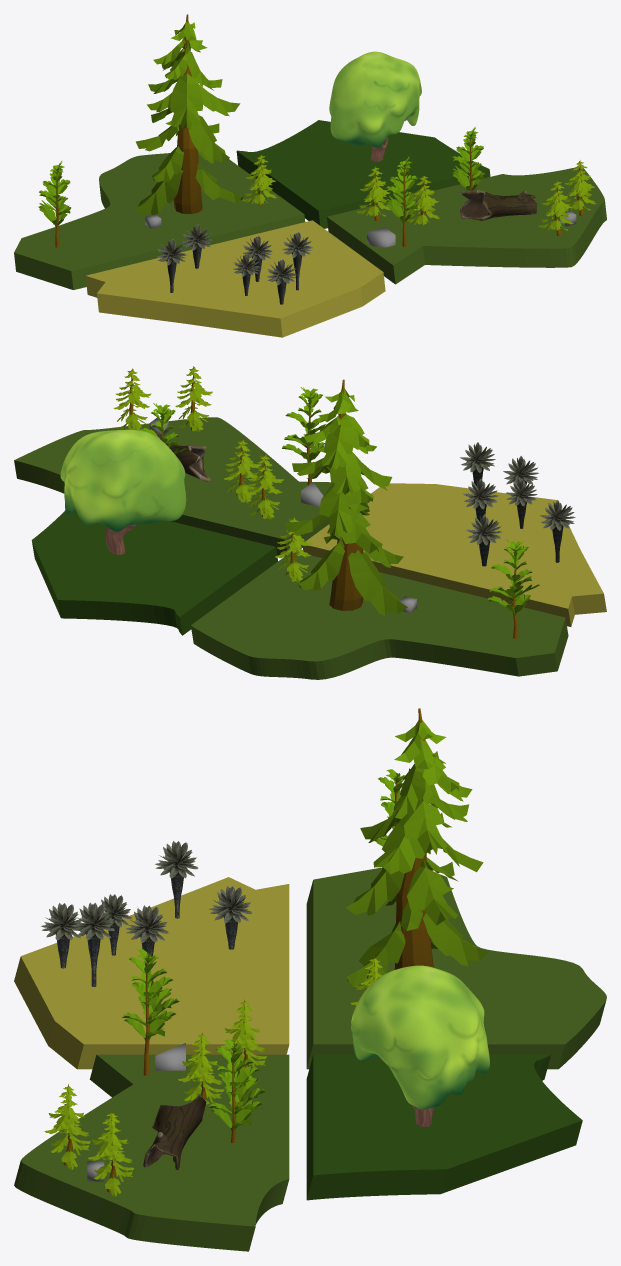
File: Ecosistema.glb
3 renders of one model, top to bottom at view 1: azimuth 30°, elevation 25°; view 2: azimuth 150°, elevation 25°; view 3: azimuth 270°, elevation 25°, orthographic. The views are drawn at different scales.
Visible parts, largest first — view 1: Curve, SM_FreeTree_02, PM3D_Sphere3D_2_PM3D_Sphere3D_2_0, Cylinder, SM_FreeTree_03_Free_Tree_M_0.002, SM_FreeTree_03_Free_Tree_M_0.003, SM_FreeTree_03_Free_Tree_M_0.001, SM_FreeTree_08_Free_Tree_M_0.002, SM_FreeTree_08, SM_FreeTree_08_Free_Tree_M_0.003, SM_FreeTree_08_Free_Tree_M_0.004, SM_FreeTree_08_Free_Tree_M_0.001 (+7 smaller); view 2: Curve, SM_FreeTree_02, PM3D_Sphere3D_2_PM3D_Sphere3D_2_0, SM_FreeTree_03_Free_Tree_M_0.003, SM_FreeTree_03_Free_Tree_M_0.002, SM_FreeTree_08, SM_FreeTree_08_Free_Tree_M_0.002, SM_FreeTree_08_Free_Tree_M_0.003, SM_FreeTree_08_Free_Tree_M_0.001, SM_FreeTree_08_Free_Tree_M_0.004, hoja11_Material #30_0.002, Cylinder (+7 smaller); view 3: Curve, SM_FreeTree_02, PM3D_Sphere3D_2_PM3D_Sphere3D_2_0, SM_FreeTree_03_Free_Tree_M_0.002, SM_FreeTree_03_Free_Tree_M_0.001, Cylinder, SM_FreeTree_08_Free_Tree_M_0.002, SM_FreeTree_08_Free_Tree_M_0.003, SM_FreeTree_08_Free_Tree_M_0.001, hoja11_Material #30_0, hoja11_Material #30_0.002, hoja11_Material #30_0.003 (+5 smaller).
Part boxes in pixels (x1,y1,x2,y2): Curve: (14, 120, 606, 337); SM_FreeTree_02: (134, 14, 243, 215); PM3D_Sphere3D_2_PM3D_Sphere3D_2_0: (329, 51, 421, 147); Cylinder: (459, 189, 537, 220); SM_FreeTree_03_Free_Tree_M_0.002: (386, 156, 418, 246); SM_FreeTree_03_Free_Tree_M_0.003: (38, 161, 71, 247); SM_FreeTree_03_Free_Tree_M_0.001: (452, 126, 484, 190); SM_FreeTree_08_Free_Tree_M_0.002: (538, 180, 573, 235); SM_FreeTree_08: (356, 166, 391, 220); SM_FreeTree_08_Free_Tree_M_0.003: (564, 160, 596, 215); SM_FreeTree_08_Free_Tree_M_0.004: (242, 154, 277, 204); SM_FreeTree_08_Free_Tree_M_0.001: (407, 175, 440, 225); Curve: (14, 417, 606, 679); SM_FreeTree_02: (285, 379, 407, 616); PM3D_Sphere3D_2_PM3D_Sphere3D_2_0: (60, 429, 186, 531); SM_FreeTree_03_Free_Tree_M_0.003: (487, 539, 539, 638); SM_FreeTree_03_Free_Tree_M_0.002: (282, 387, 325, 485); SM_FreeTree_08: (246, 453, 283, 519); SM_FreeTree_08_Free_Tree_M_0.002: (175, 366, 212, 431); SM_FreeTree_08_Free_Tree_M_0.003: (113, 368, 151, 430); SM_FreeTree_08_Free_Tree_M_0.001: (224, 438, 261, 503); SM_FreeTree_08_Free_Tree_M_0.004: (275, 517, 312, 582); hoja11_Material #30_0.002: (540, 500, 575, 562); Cylinder: (156, 432, 210, 482); Curve: (14, 867, 606, 1251); SM_FreeTree_02: (346, 708, 488, 986); PM3D_Sphere3D_2_PM3D_Sphere3D_2_0: (351, 965, 489, 1109); SM_FreeTree_03_Free_Tree_M_0.002: (122, 949, 179, 1075); SM_FreeTree_03_Free_Tree_M_0.001: (208, 1039, 265, 1143); Cylinder: (143, 1094, 206, 1169); SM_FreeTree_08_Free_Tree_M_0.002: (44, 1084, 90, 1169); SM_FreeTree_08_Free_Tree_M_0.003: (88, 1111, 134, 1196); SM_FreeTree_08_Free_Tree_M_0.001: (178, 1032, 224, 1104); hoja11_Material #30_0: (71, 902, 114, 986); hoja11_Material #30_0.002: (155, 841, 198, 918); hoja11_Material #30_0.003: (209, 886, 252, 949).
Size of the model in its own units: 28.15 by 10.95 by 19.36.
Materials: 10 (6 with a texture image).
